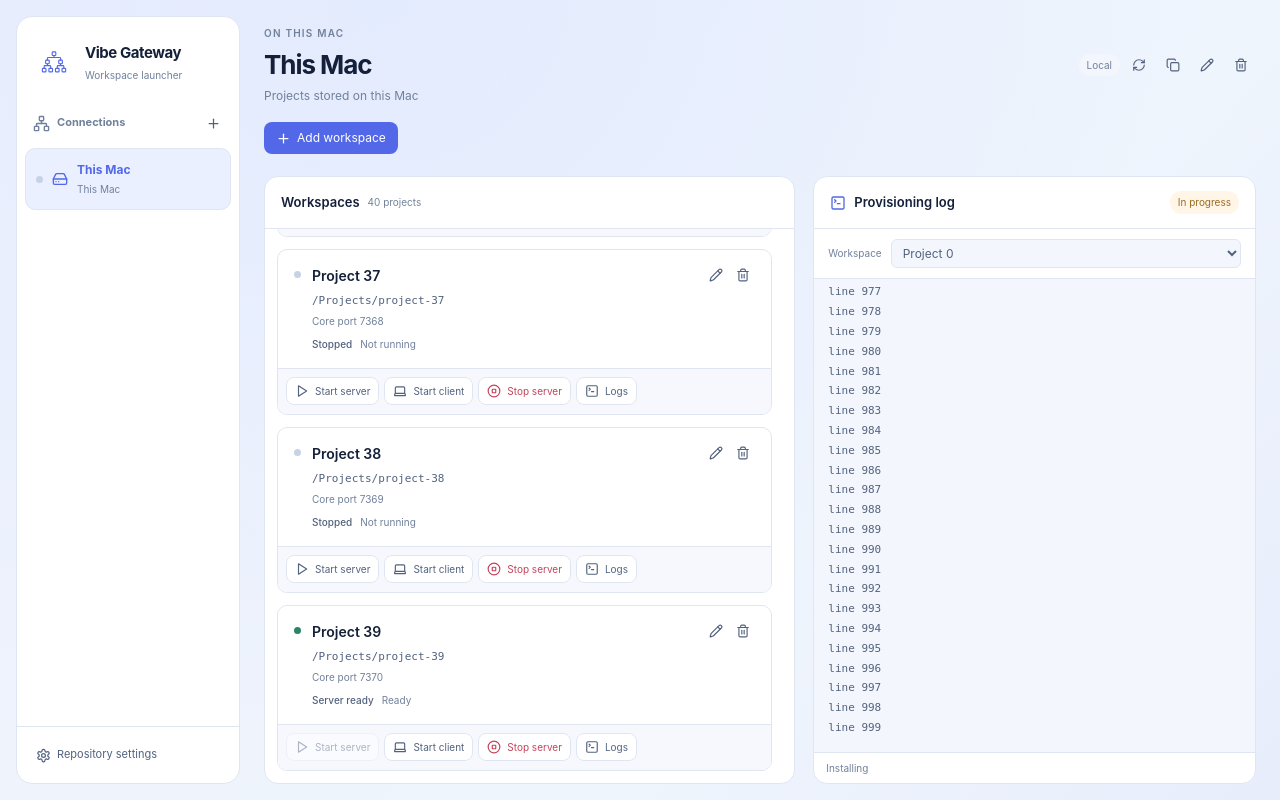
Test: Gateway workspace page › keeps many workspaces and long provisioning output in separate named regions
(page scrolled)
Click the button with aria-label "View provisioning log for Project 39" at (606, 747), box [576,733,637,761]
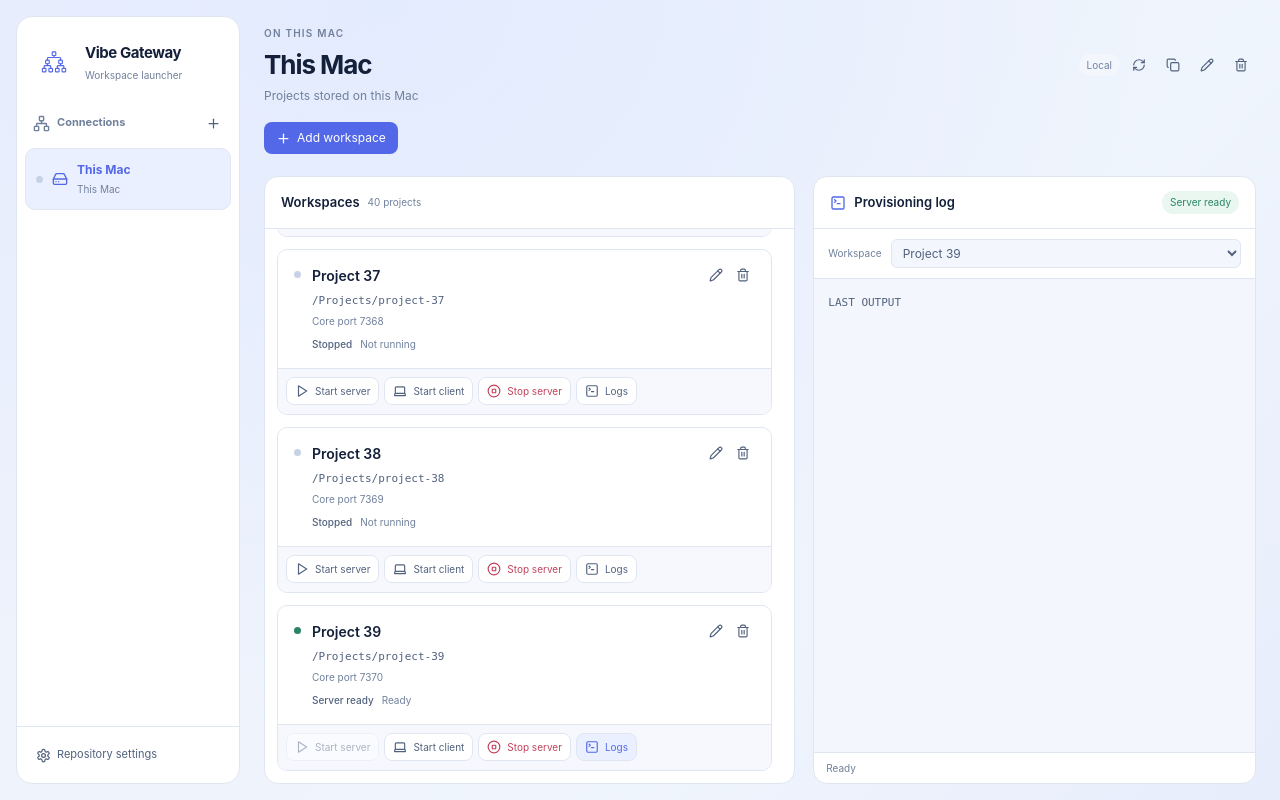
Now the text named "Provisioning output for Project 39" reads "LAST OUTPUT", box [828,296,901,309]
